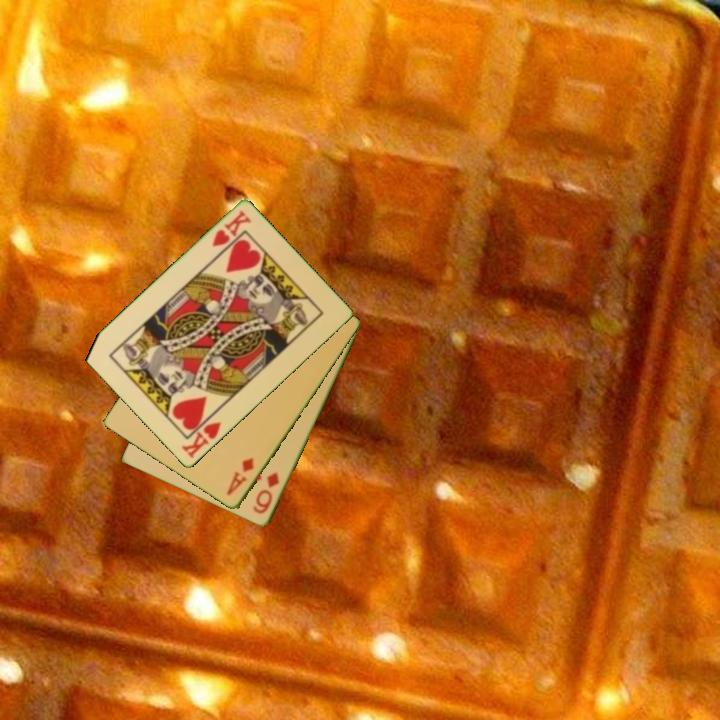6d: (249, 469, 282, 517)
Ad: (223, 454, 257, 499)
Kh: (178, 410, 224, 462), (209, 207, 254, 250)
